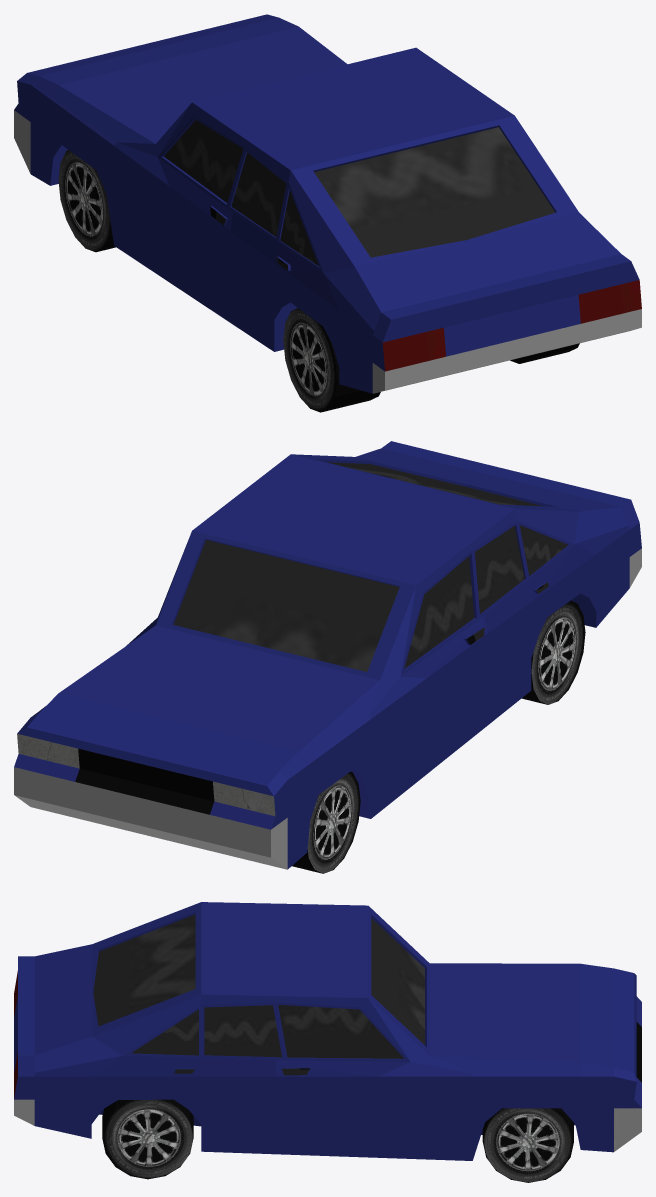
The model's file is AdamsCarTypeAblue.glb.
3 renders of one model, top to bottom at view 1: azimuth 30°, elevation 25°; view 2: azimuth 150°, elevation 25°; view 3: azimuth 270°, elevation 25°, orthographic. The views are drawn at different scales.
Visible parts, largest first — view 1: Cylinder.004; view 2: Cylinder.004; view 3: Cylinder.004.
Part boxes in pixels (bbox=[...]): Cylinder.004: bbox=[14, 14, 641, 412]; Cylinder.004: bbox=[14, 441, 641, 873]; Cylinder.004: bbox=[14, 902, 641, 1182].
Size of the model in its own units: 7.4 by 5.87 by 18.23.
1 material, 1 textured.
